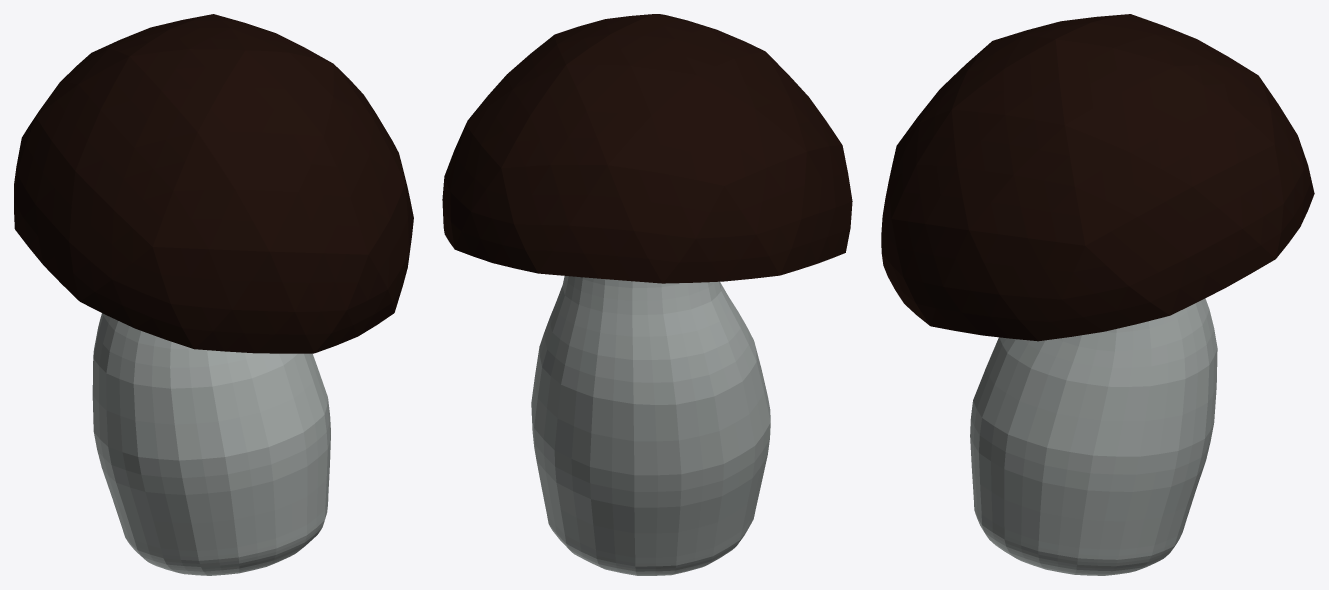
Rendered from Mushroom HP.obj.
3 views of the same model, side by side, from view 1: azimuth 30°, elevation 25°; view 2: azimuth 150°, elevation 25°; view 3: azimuth 270°, elevation 25° (orthographic).
Visible parts, largest first — view 1: Цилиндр_Цилиндр_2_цвет, Цилиндр_Цилиндр_1_цвет; view 2: Цилиндр_Цилиндр_2_цвет, Цилиндр_Цилиндр_1_цвет; view 3: Цилиндр_Цилиндр_2_цвет, Цилиндр_Цилиндр_1_цвет.
Part boxes in pixels (<box>): Цилиндр_Цилиндр_2_цвет: <box>14,14,413,353</box>; Цилиндр_Цилиндр_1_цвет: <box>92,313,330,575</box>; Цилиндр_Цилиндр_2_цвет: <box>442,14,852,283</box>; Цилиндр_Цилиндр_1_цвет: <box>531,276,770,575</box>; Цилиндр_Цилиндр_2_цвет: <box>881,14,1314,341</box>; Цилиндр_Цилиндр_1_цвет: <box>970,298,1217,575</box>.
Size of the model in its own units: 0.3184 by 0.4592 by 0.3441.
